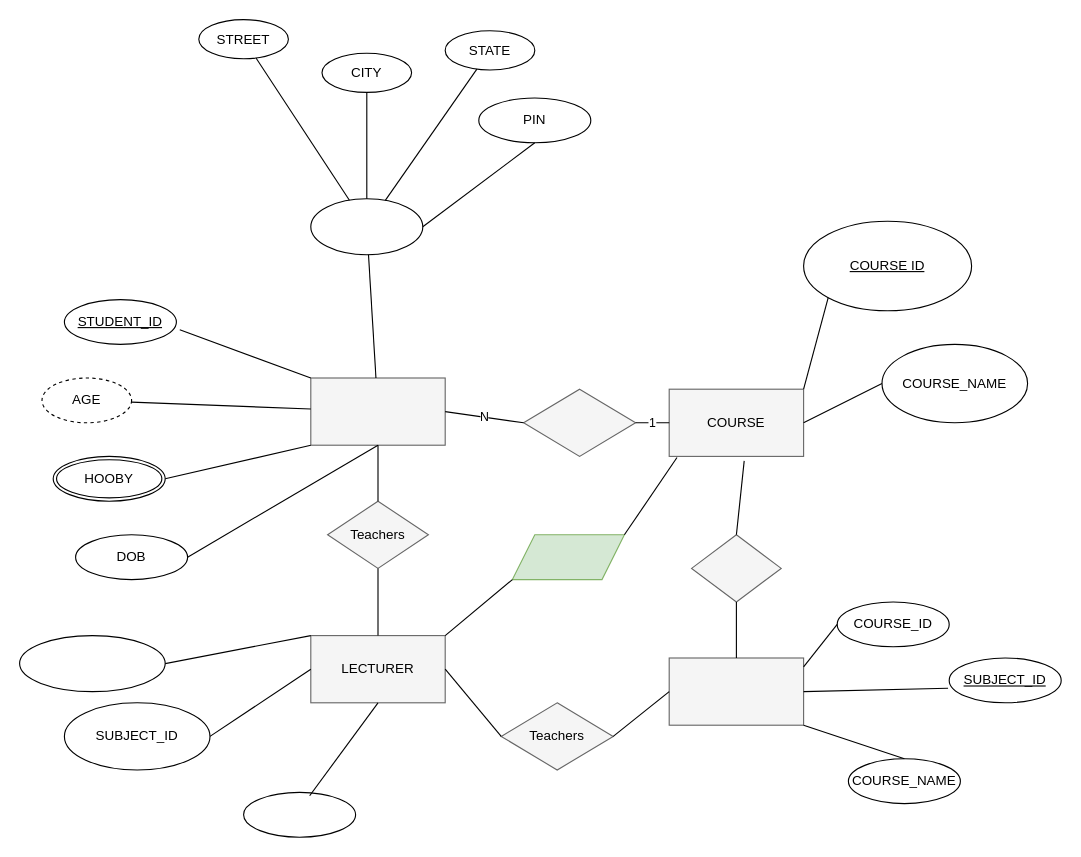
This 1081x857 diagram has some shape labels left out. Each missing label, with the centre of its shape:
"ADDRESS" belongs at (x=366, y=226).
"Attends" belongs at (x=579, y=422).
"HAS" belongs at (x=735, y=568).
"LECTURER ID" belongs at (x=299, y=814).
"LECTURER_NAME" belongs at (x=91, y=663).
"STUDENT" belongs at (x=377, y=411).
"SUBJECTS" belongs at (x=736, y=691).
"Takes" belongs at (x=567, y=557).
